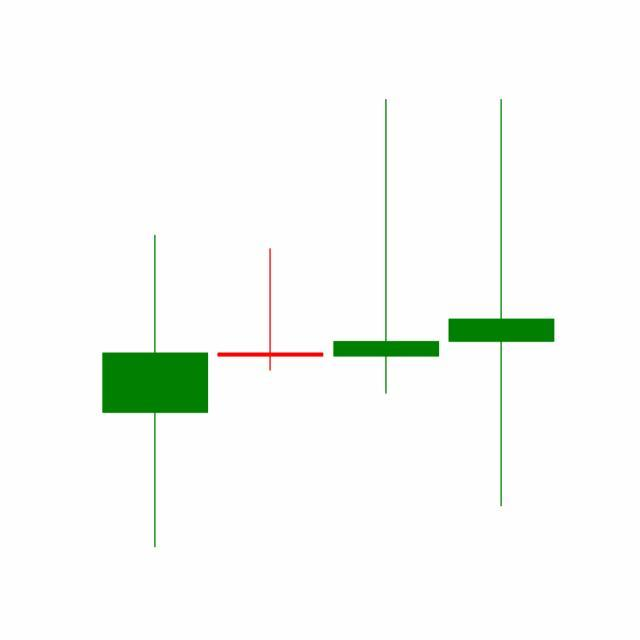Spinning Top: (444, 95, 560, 512)
